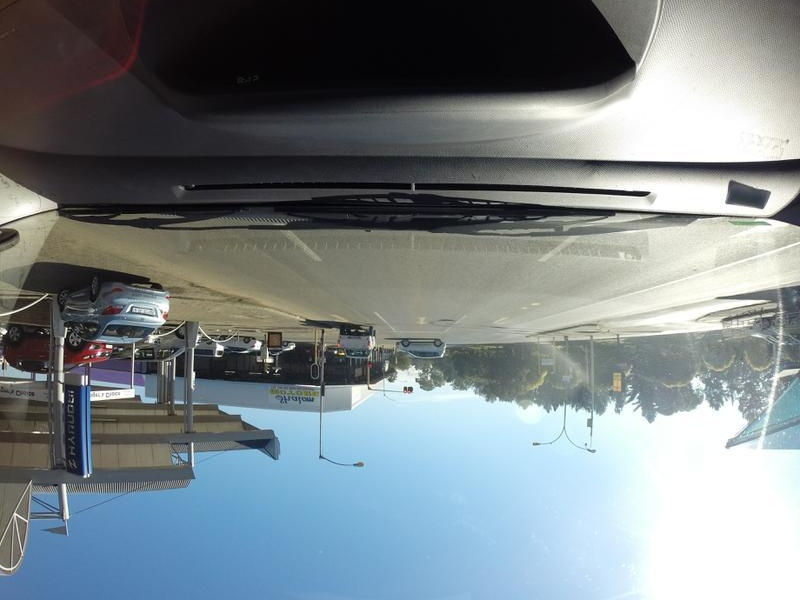pothole: (438, 316, 462, 324)
